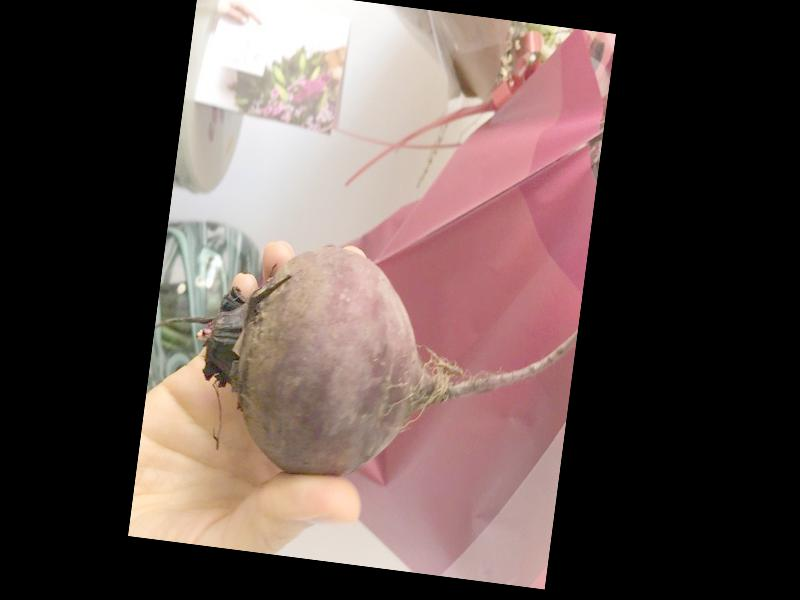Beet: (141, 225, 582, 507)
